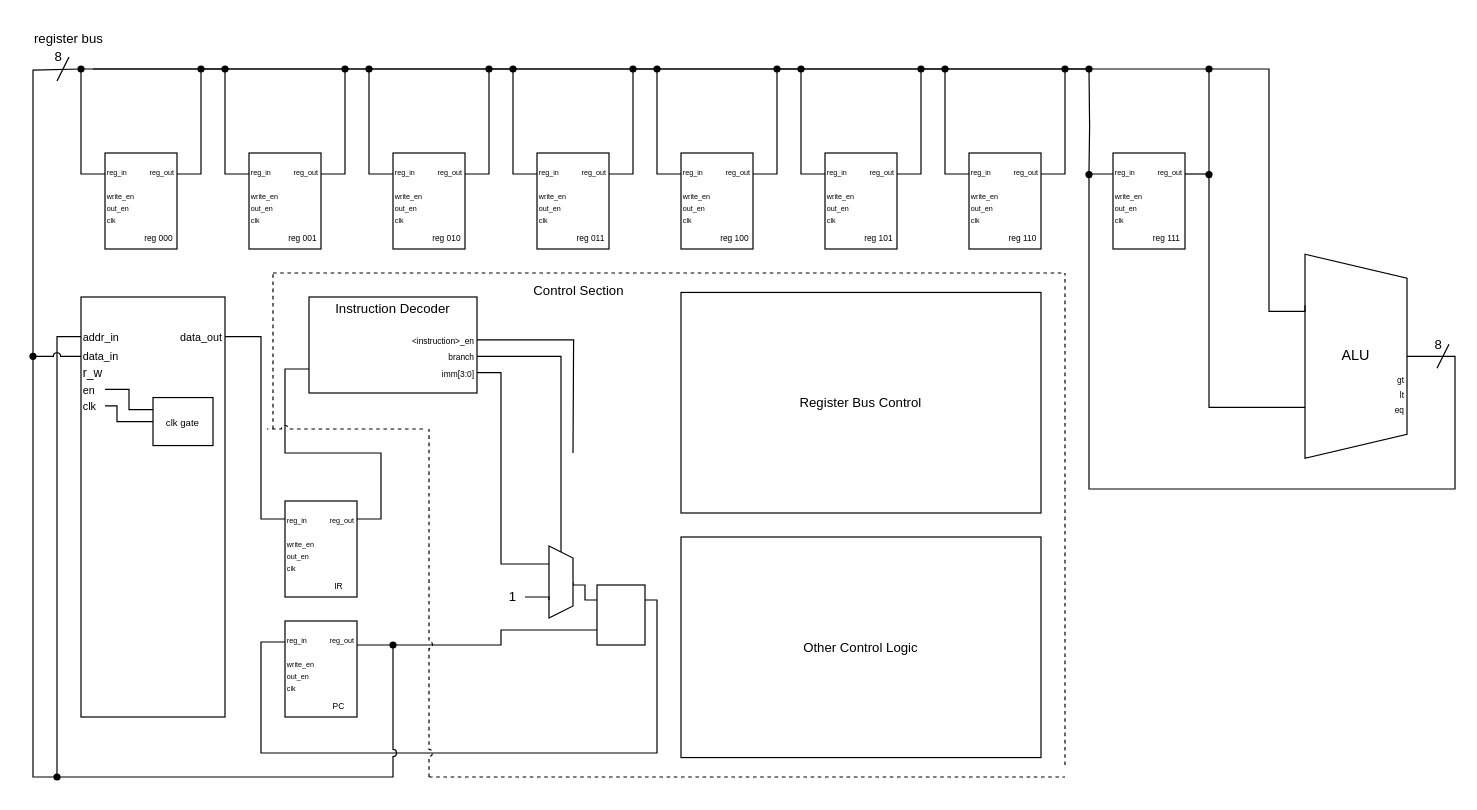
Image size: 1477x810. Some labels were removed from this diagram. The box of each missing label's shape, as (x1, y1, x2, y2) in pixels:
adder: (596, 584, 645, 645)
RAM 256 bytes: (80, 296, 225, 717)
